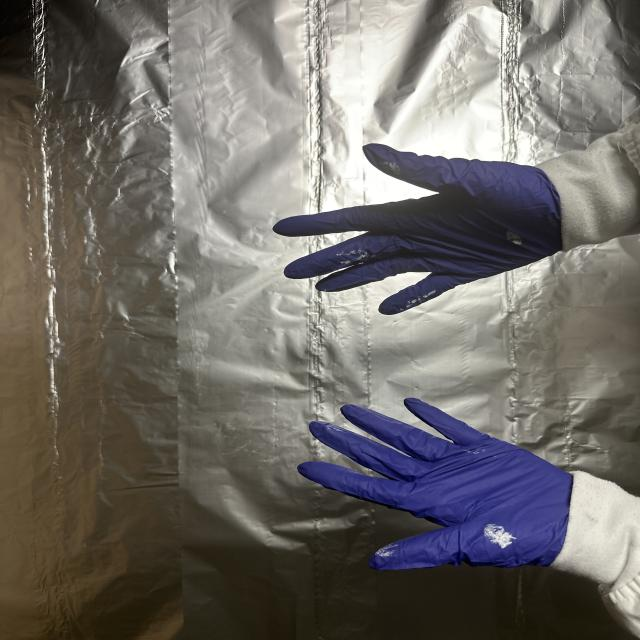gloves_contaminated: (274, 144, 561, 314), (298, 398, 573, 569)
